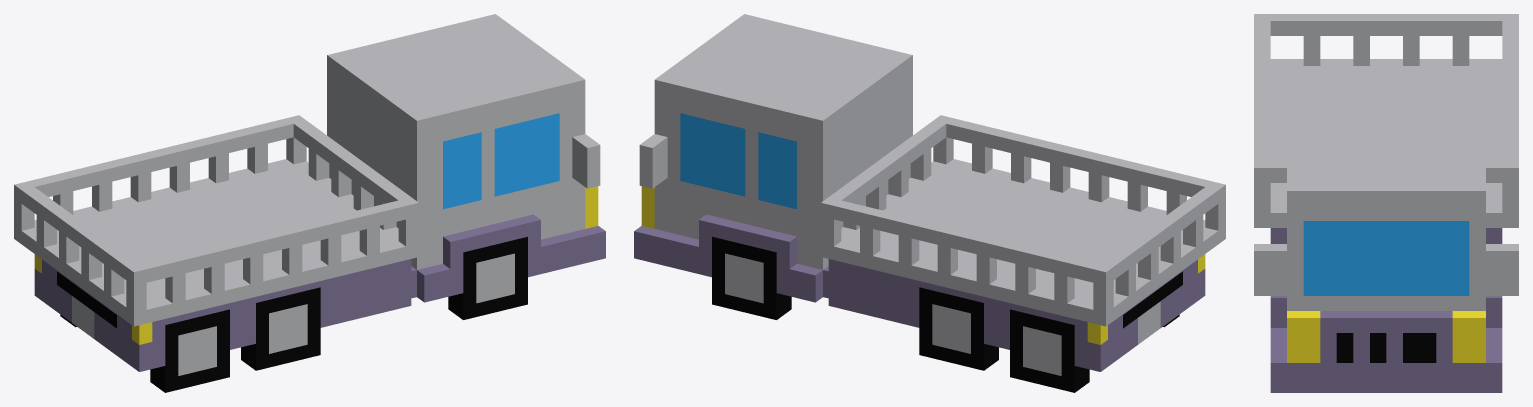
File: truck_a_d.obj
3 views of the same model, side by side, from view 1: azimuth 30°, elevation 25°; view 2: azimuth 150°, elevation 25°; view 3: azimuth 270°, elevation 25° (orthographic). The views are drawn at different scales.
Bounding box in the file's own units: 3.7 × 1.5 × 1.6.
1 material, 1 textured.
